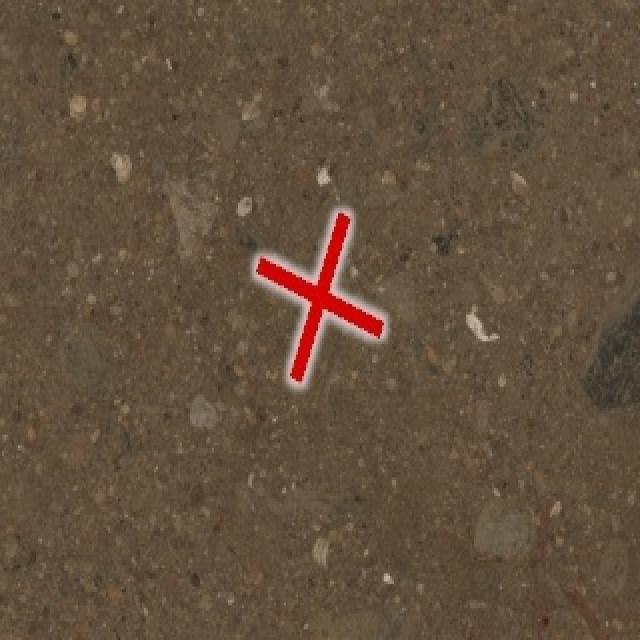x_marker: (255, 212, 383, 383)
